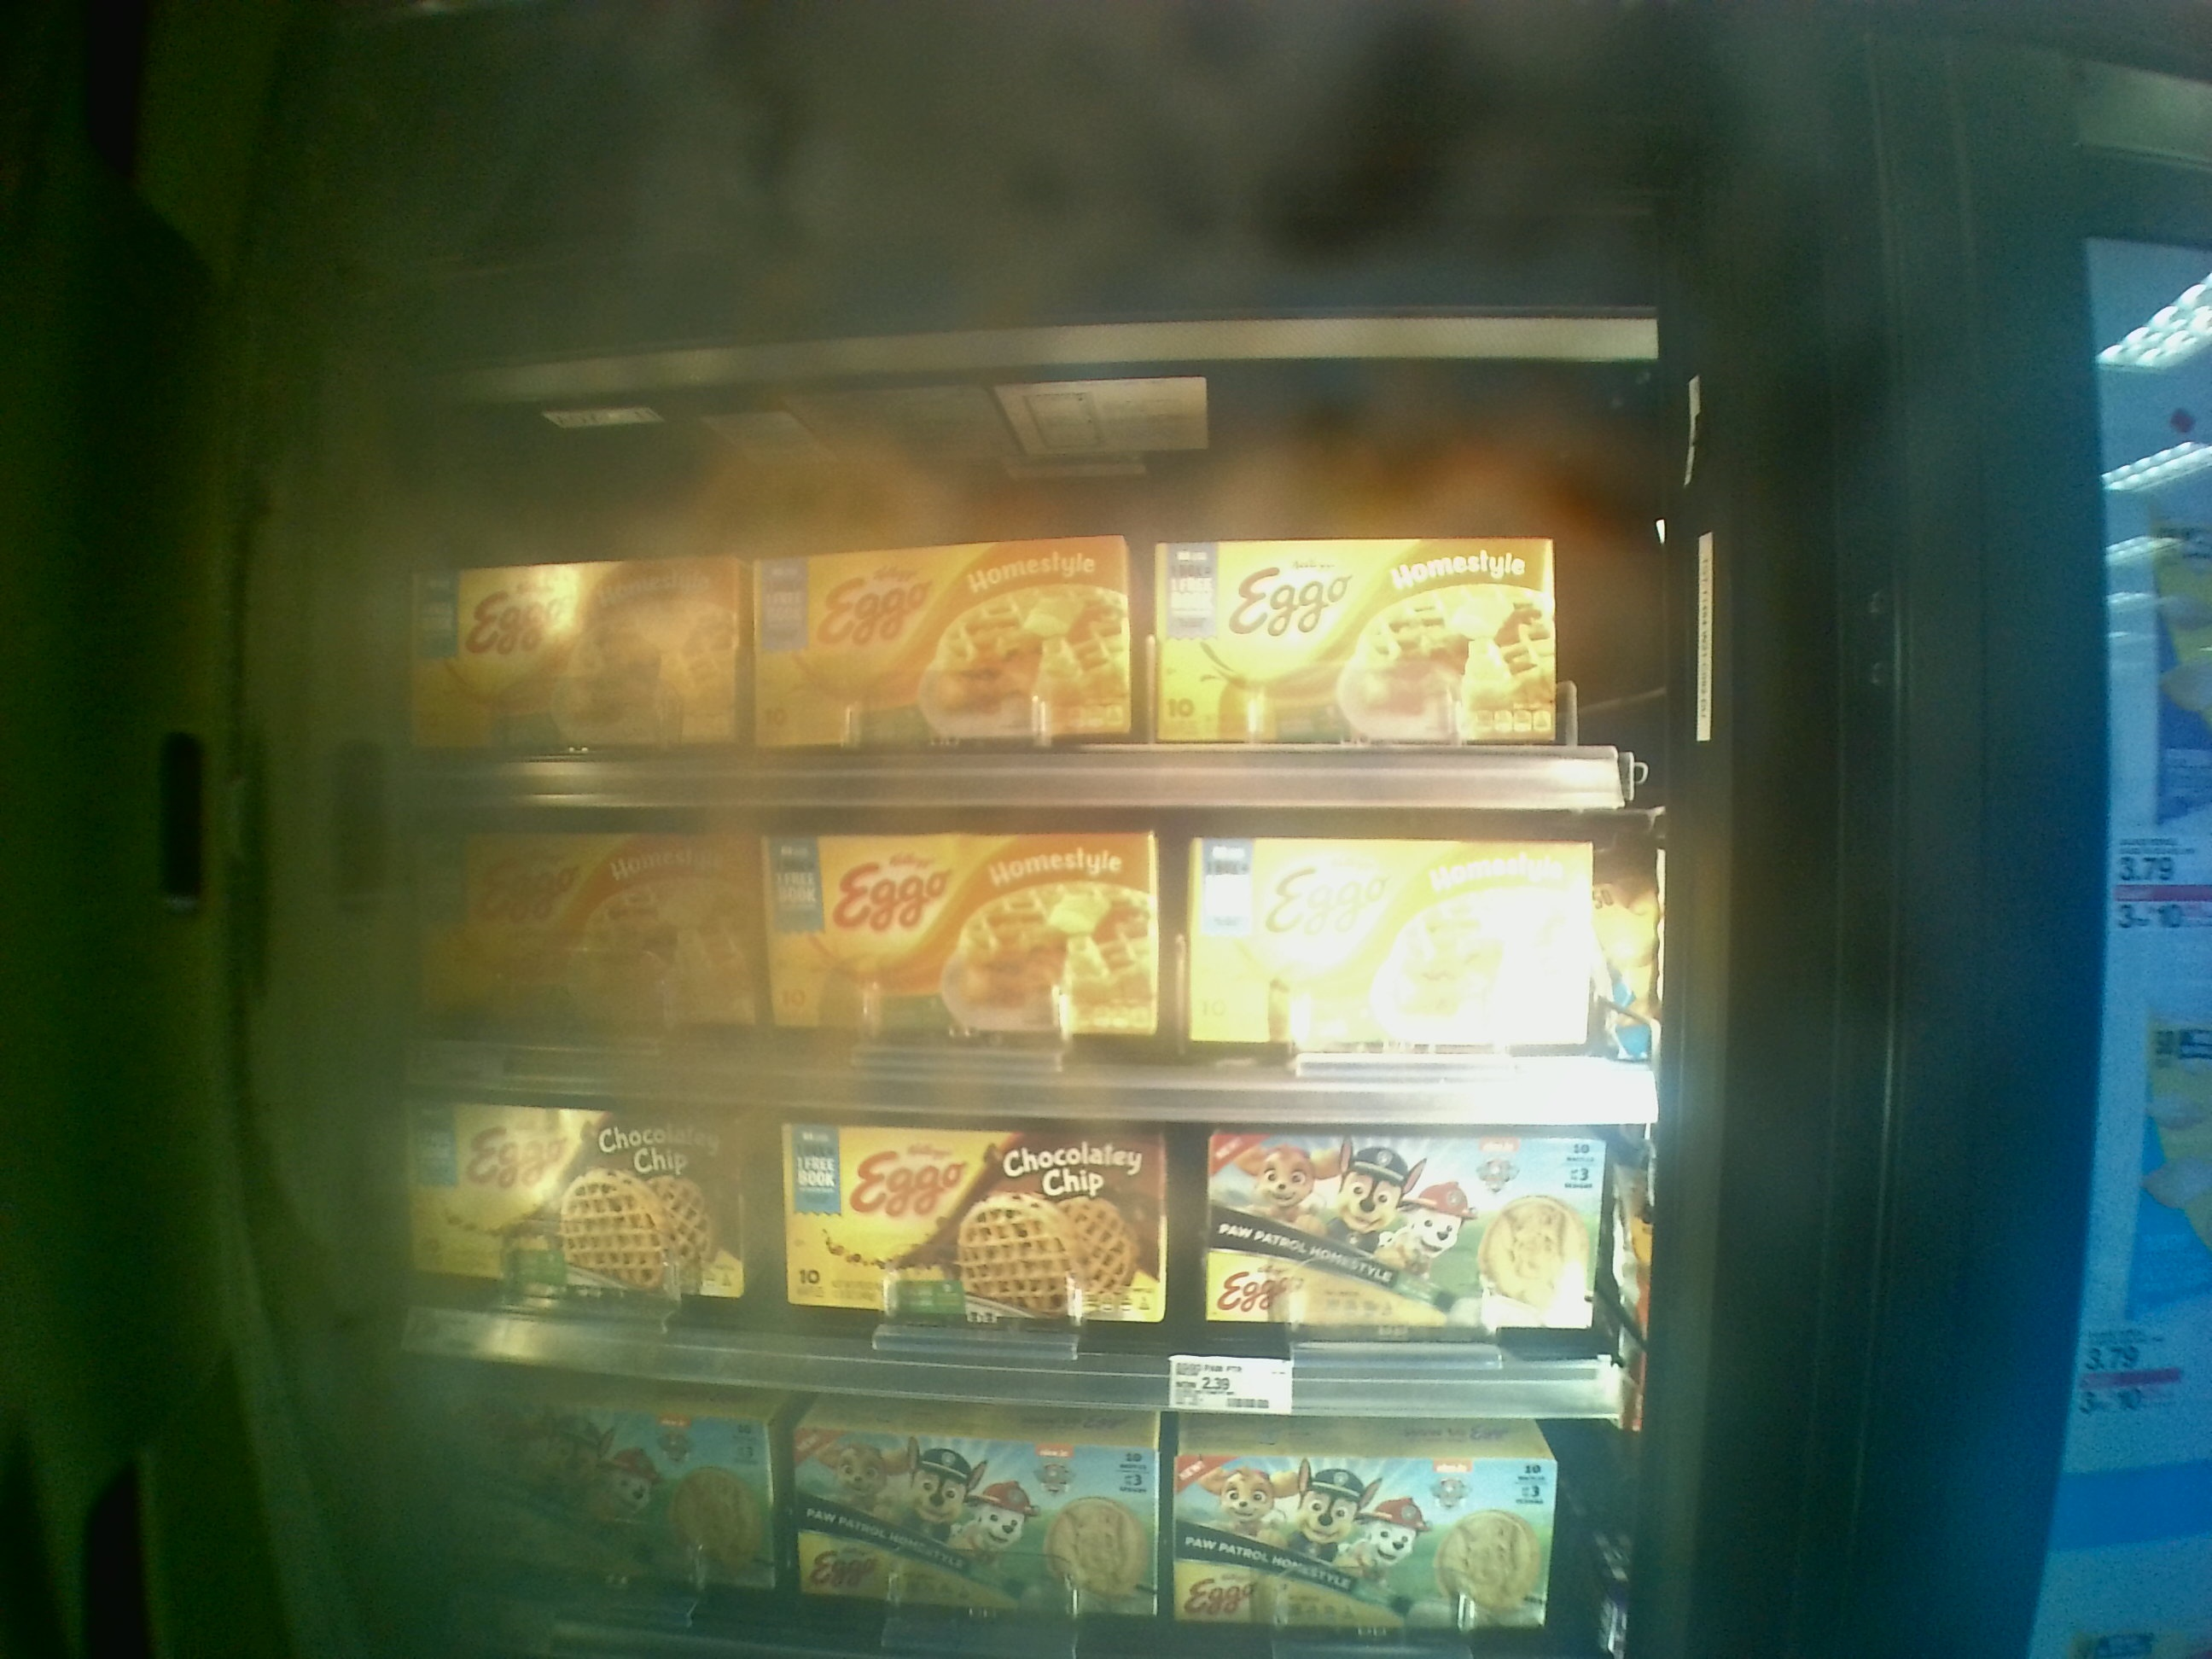shelf: (364, 467, 1646, 819), (355, 817, 1681, 1129), (366, 1105, 1649, 1424)
